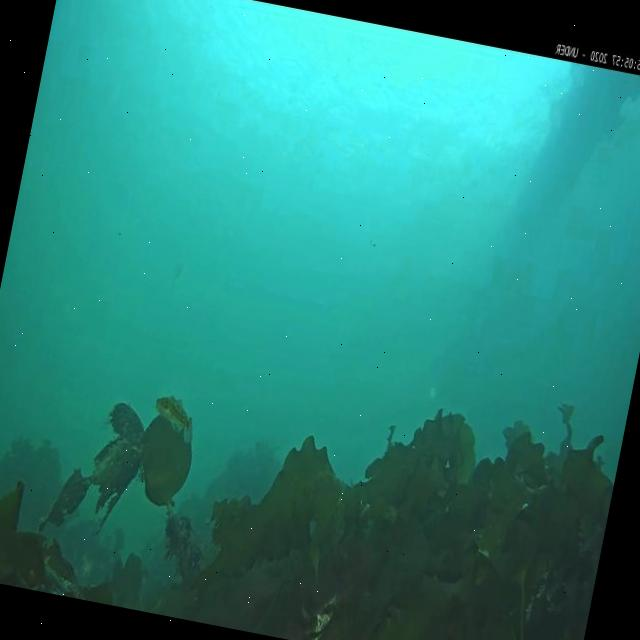fish: (150, 394, 200, 442)
